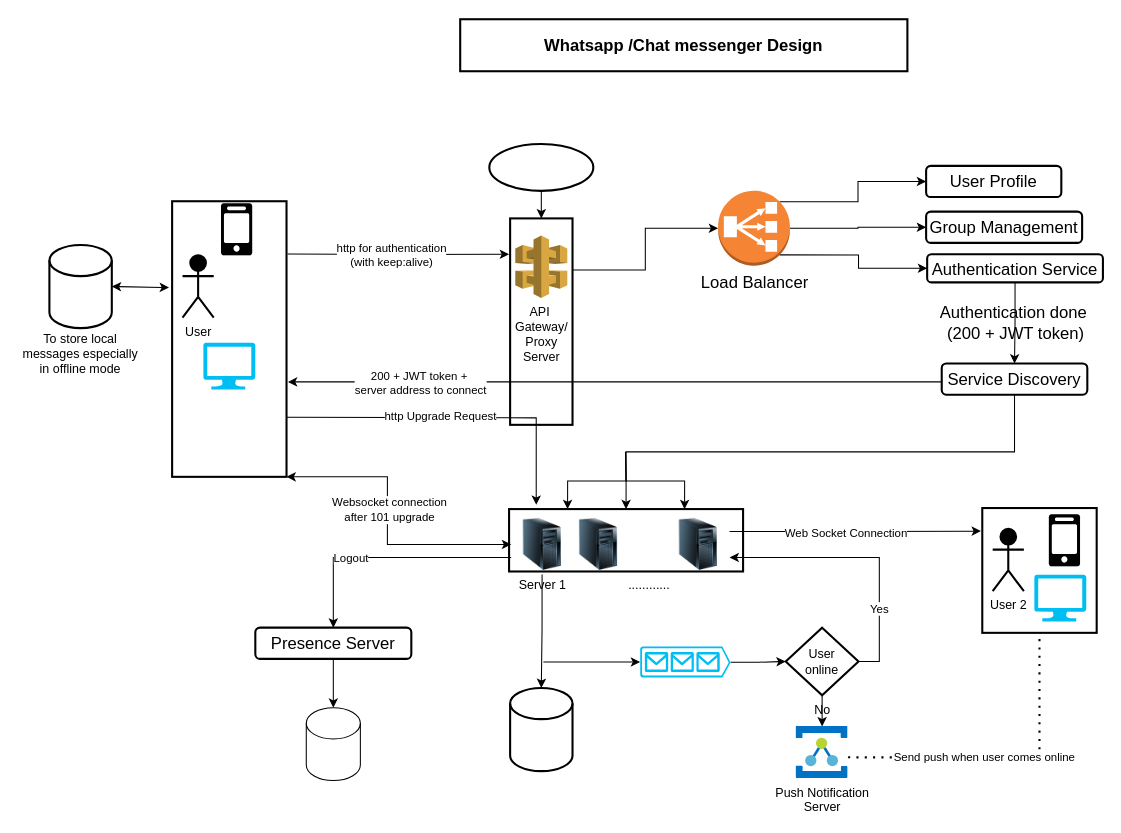
Some shapes in this 1121 by 833 pixel diagram are drawn without their labels. The centre of each missing label's shape, as x and y in pixels:
"Key Store DB" belongs at (541,729).
"KV Store" belongs at (332,744).
"Local Sql DB" belongs at (80,286).
"Server 2" belongs at (598,544).
"Server n" belongs at (698,544).
"Traffic Filteration" belongs at (541,166).
